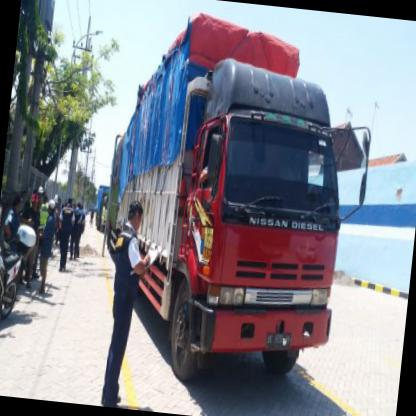truck: (169, 81, 354, 392)
